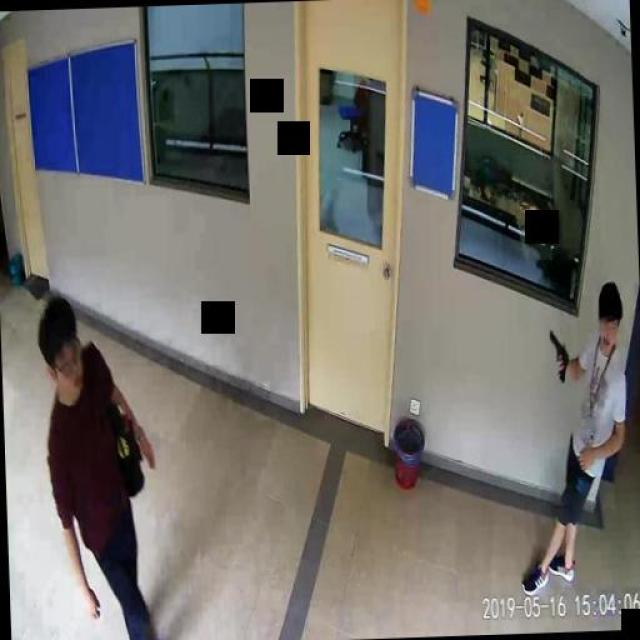gun: (548, 330, 568, 379)
